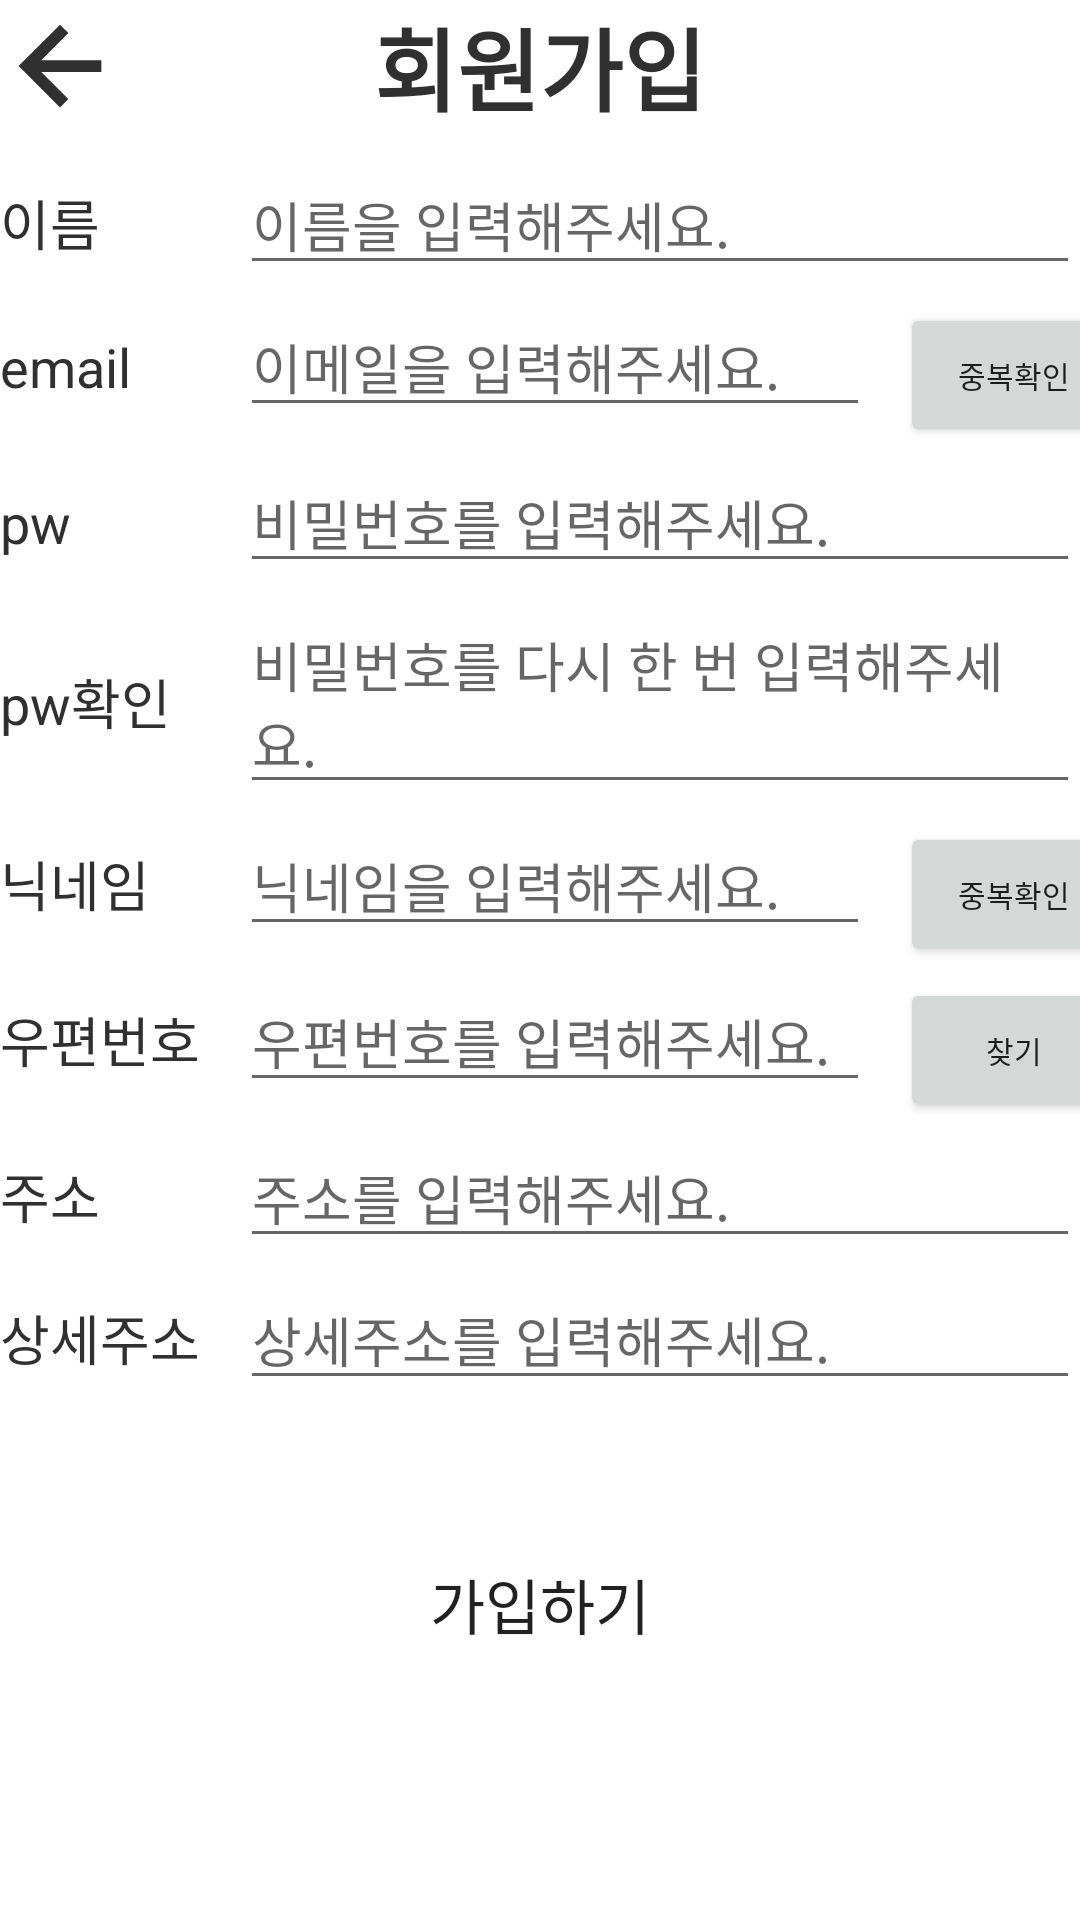

Point at icon controls on the screen. Image size 1080*1920, points as (x,y).
arrow back: (60,66)
